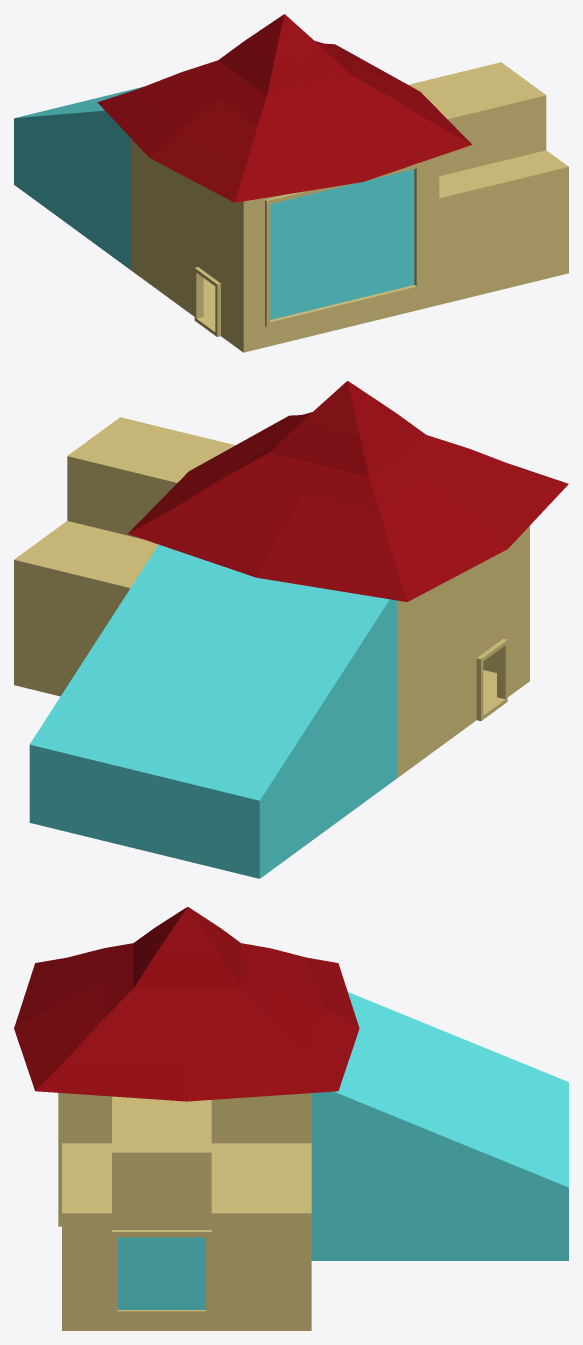
The model's file is kas.fbx.
3 views of the same model, one above another, from view 1: azimuth 30°, elevation 25°; view 2: azimuth 150°, elevation 25°; view 3: azimuth 270°, elevation 25° (orthographic). The views are drawn at different scales.
Visible parts, largest first — view 1: Cube, Cube.001; view 2: Cube, Cube.001; view 3: Cube, Cube.001.
Part boxes in pixels (x1=…): Cube: x1=14, y1=62, x2=568, y2=352; Cube.001: x1=97, y1=14, x2=472, y2=202; Cube: x1=14, y1=417, x2=529, y2=878; Cube.001: x1=128, y1=381, x2=568, y2=601; Cube: x1=58, y1=992, x2=568, y2=1330; Cube.001: x1=14, y1=907, x2=359, y2=1101.
Bounding box in the file's own units: 5350 × 3794 × 6341.
